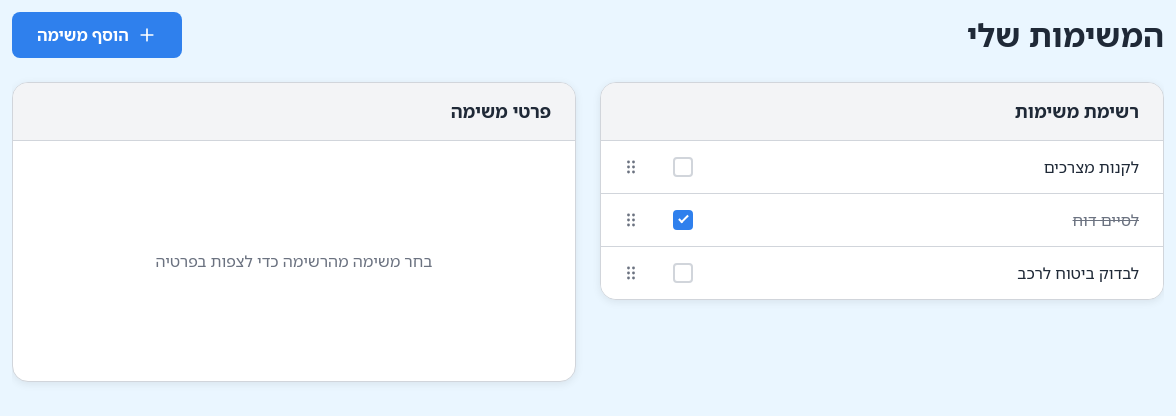
Scenario: HomePage – completion status › a network failure shows the default message
Click the checkbox named "לקנות מצרכים" at (683, 167), box [673,157,693,177]
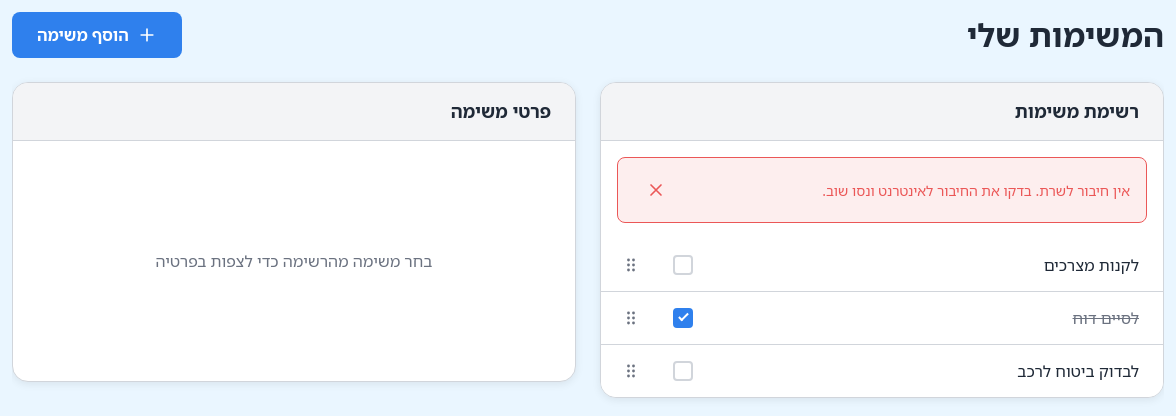
Expected: the message shows "אין חיבור לשרת", [822,181,1130,200]
